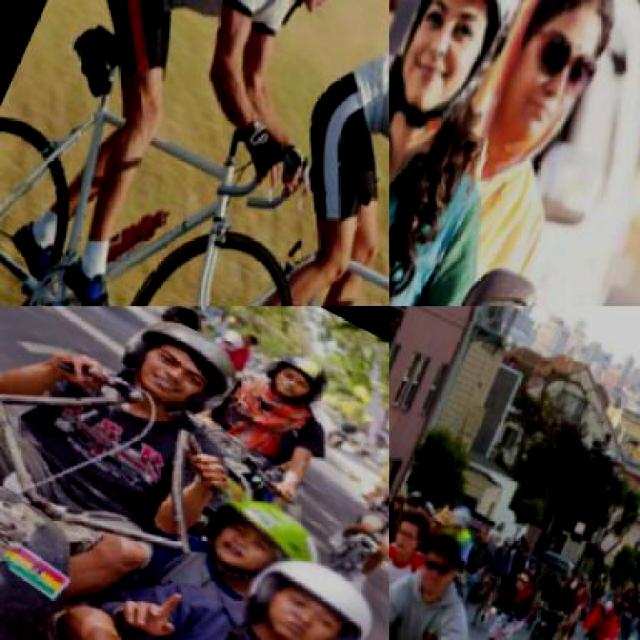With Helmet: (389, 0, 567, 172), (182, 475, 340, 619), (100, 306, 257, 437), (217, 532, 386, 638), (250, 337, 341, 421), (255, 0, 388, 31), (437, 502, 475, 541)
Without Helmet: (451, 0, 638, 174), (400, 523, 469, 600)
